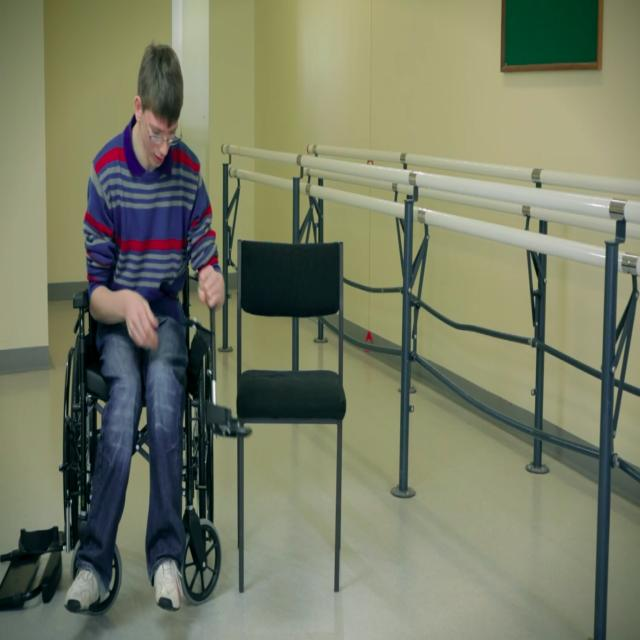wheelchairs: (59, 283, 220, 605)
